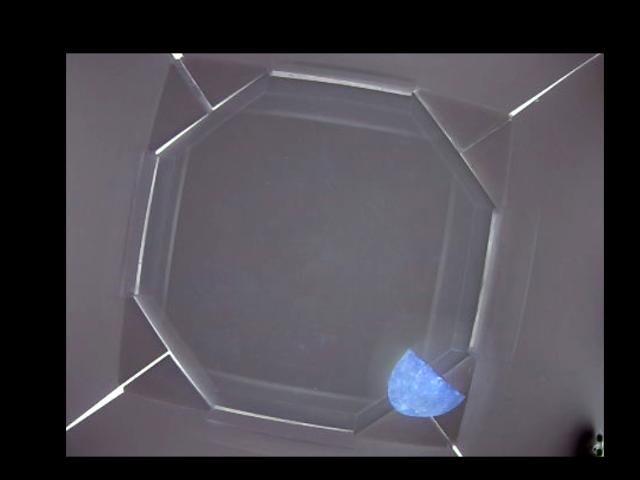Potato: (388, 345, 463, 417)
